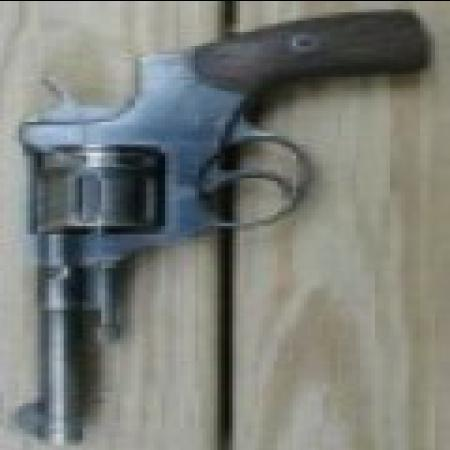Pistol: (15, 9, 431, 441)
